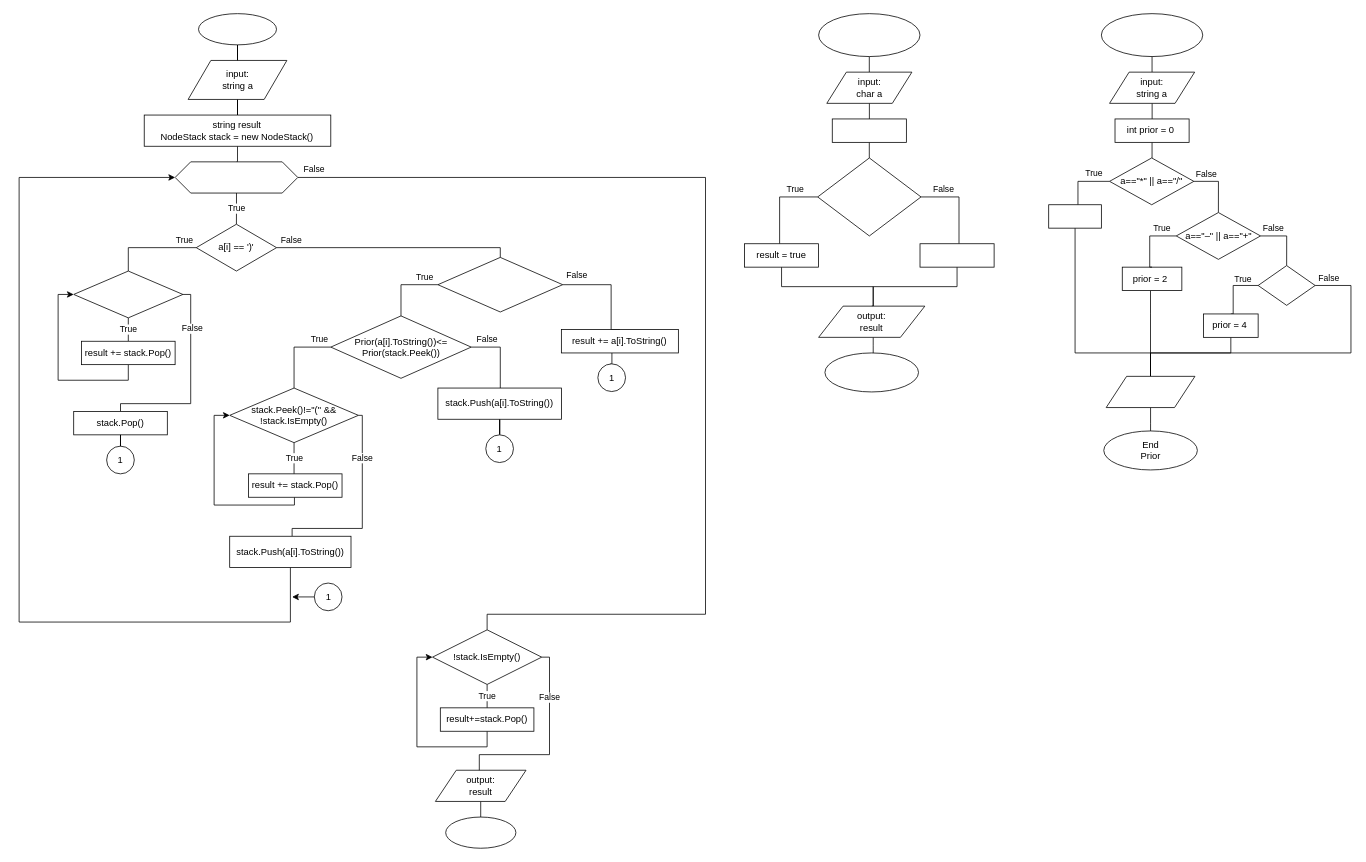
This 1366x862 diagram has some shape labels left out. The box of each missing label's shape, as (x1, y1, x2, y2) in pixels:
a == '/' || a == '*' || a == '-' || a == '+' || a == '(': (817, 157, 921, 236)
a=="(": (1257, 265, 1315, 305)
bool result: (831, 118, 906, 142)
checkSpecSymbol(a[i]): (437, 257, 563, 312)
End: (445, 816, 516, 848)
End checkSpecSymbol: (824, 352, 919, 392)
int i = 0; i < a.Length; i++: (174, 161, 298, 193)
output: prior: (1105, 376, 1195, 408)
prior = 3: (1048, 204, 1101, 228)
result = false: (919, 243, 994, 267)
stack.Peek() != "(": (73, 270, 183, 318)
Start: (198, 13, 277, 45)
Start checkSpecSymbol: (818, 13, 920, 57)
Start Prior: (1101, 13, 1203, 57)
